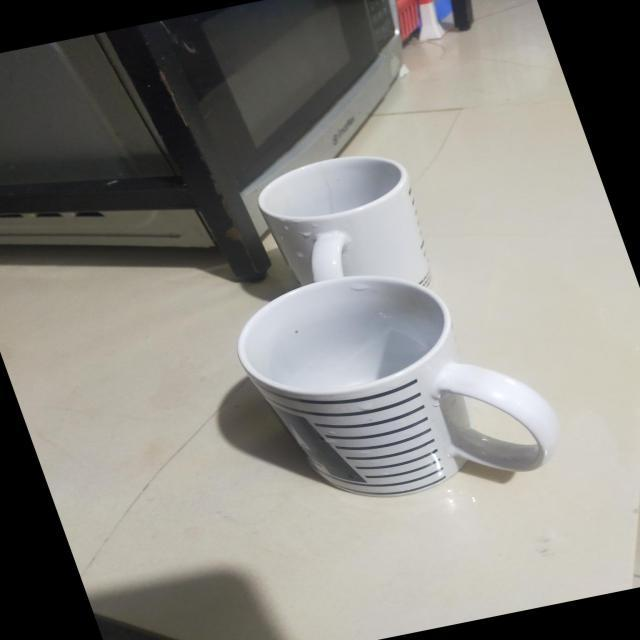taza: (238, 275, 560, 497), (257, 156, 431, 308)
